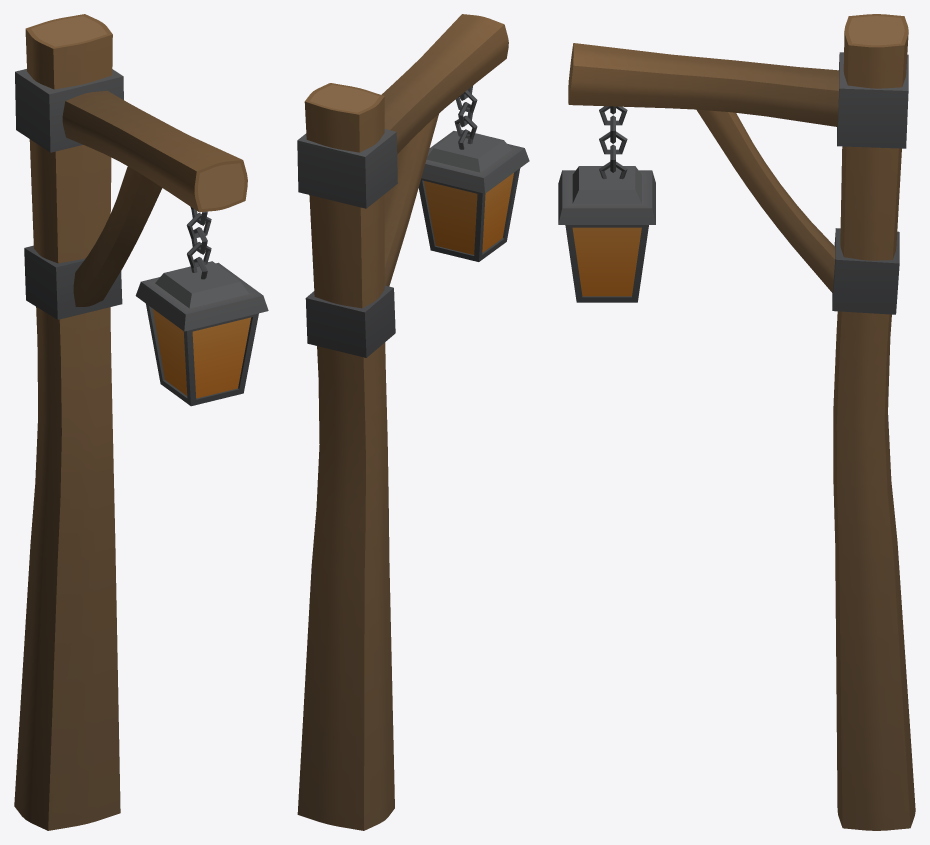
File: Lantern_02.fbx
3 renders of one model, left to right at view 1: azimuth 30°, elevation 25°; view 2: azimuth 150°, elevation 25°; view 3: azimuth 270°, elevation 25°, orthographic. The views are drawn at different scales.
Visible parts, largest first — view 1: Lantern_02_LOD0; view 2: Lantern_02_LOD0; view 3: Lantern_02_LOD0.
Boxes of the visible parts, x1,y1,x2,y2 form: Lantern_02_LOD0: [14, 14, 268, 830]; Lantern_02_LOD0: [297, 14, 529, 830]; Lantern_02_LOD0: [558, 14, 915, 830].
Size of what is drawn, in the model's own units: 0.271 by 2.39 by 0.9899.
